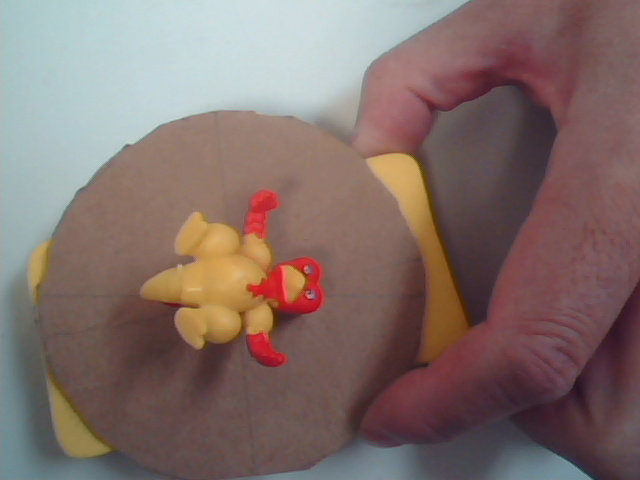magmar: (141, 170, 371, 381)
